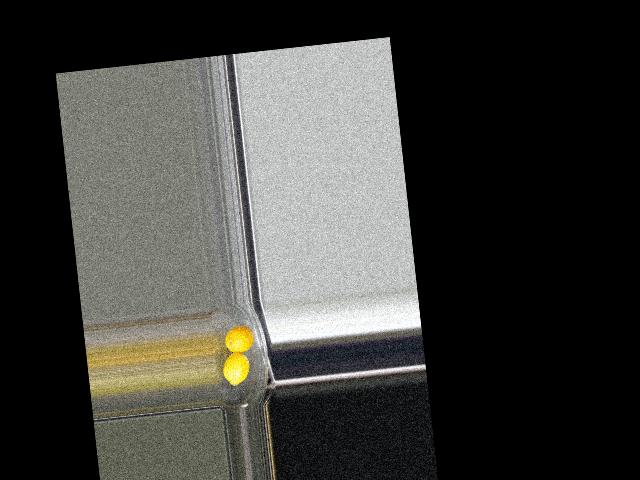lemon: (221, 348, 252, 388)
